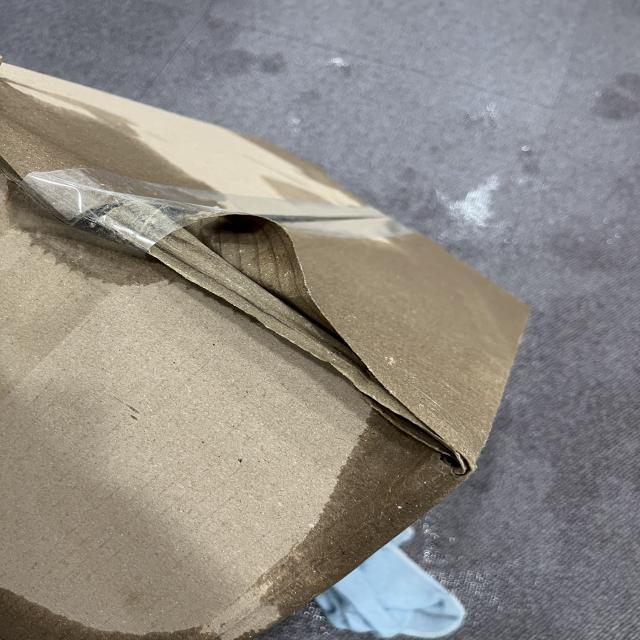wet: (232, 227, 534, 590)
